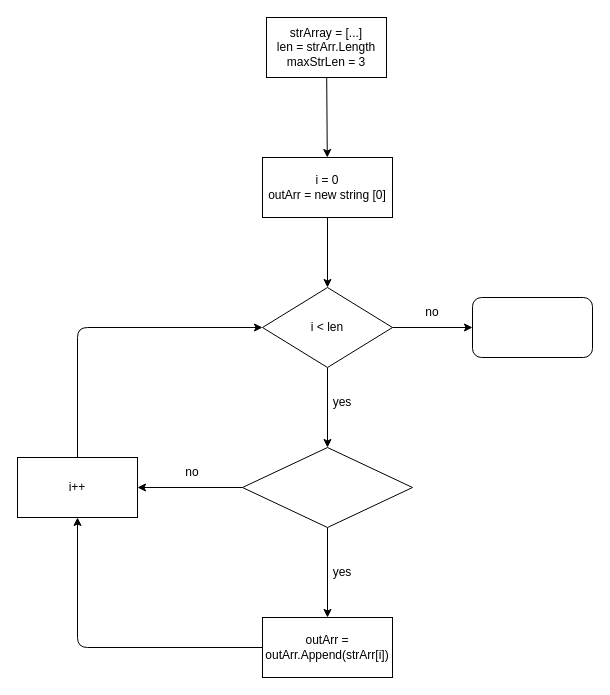
The diagram is 610 pixels wide and 695 high, and some of its shapes have lost their labels. Each missing label, with the centre of its shape:
return outArr: the point at 532,327
strArr[i].Length<maxStrLen: the point at 327,487
